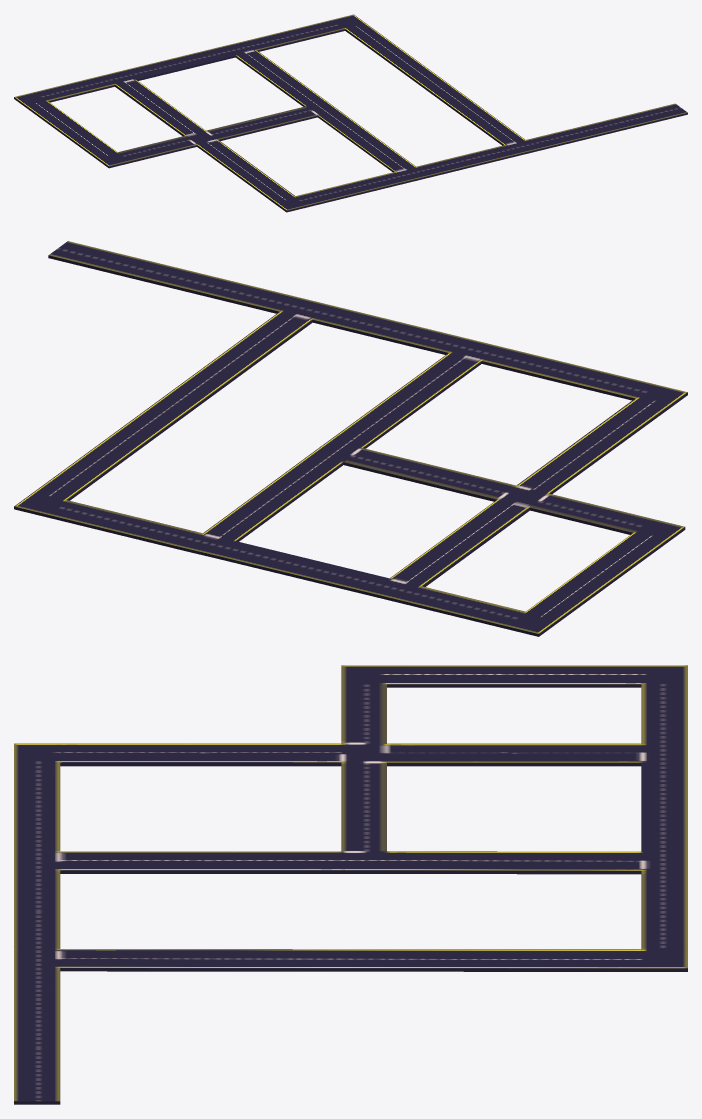
Rendered from Streets.glb.
3 renders of one model, top to bottom at view 1: azimuth 30°, elevation 25°; view 2: azimuth 150°, elevation 25°; view 3: azimuth 270°, elevation 25°, orthographic. The views are drawn at different scales.
Parts seen in each view (by area): view 1: Cube.001; view 2: Cube.001; view 3: Cube.001.
Part boxes in pixels (x1,y1,x2,y2): Cube.001: (14,14,687,212); Cube.001: (14,241,687,636); Cube.001: (14,665,687,1104).
Bounding box in the file's own units: 172 × 0.7208 × 112.
Materials: 1 (1 with a texture image).
